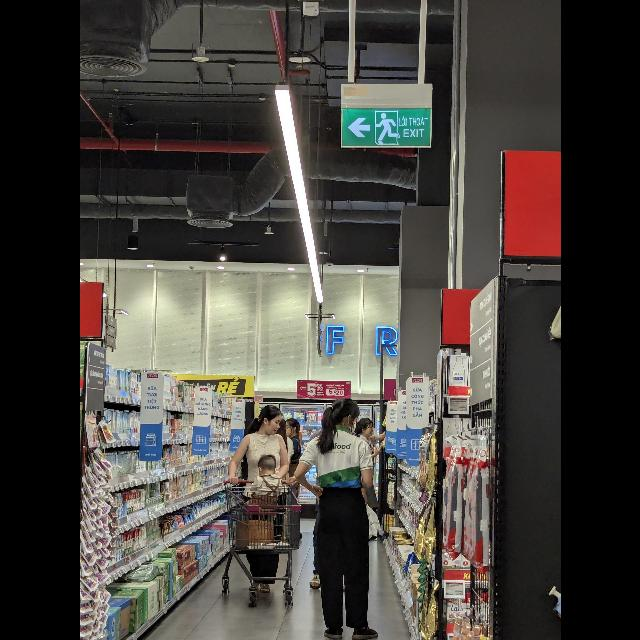exit: (340, 108, 431, 150)
